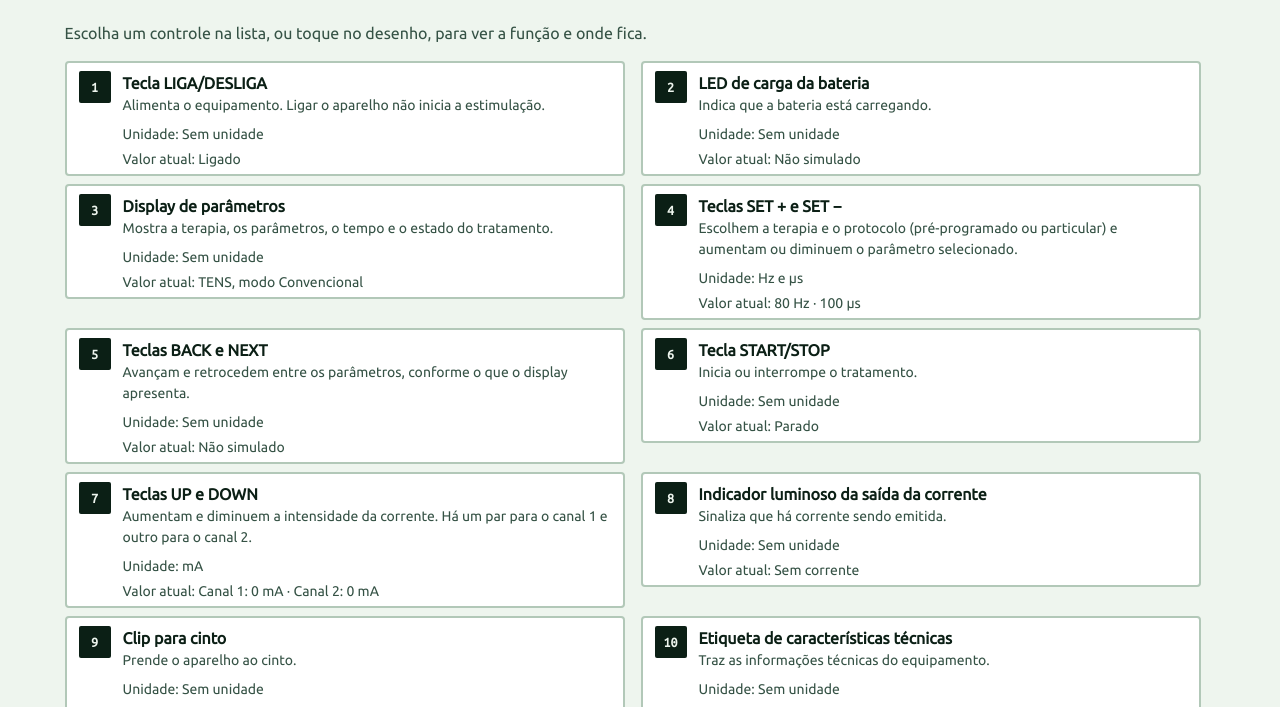
lista textual dos controles › deveAbrirAExplicacaoComEstadoEReferenciaDoManual
(page scrolled)
Click the button "6 Tecla START/STOP Inicia ou interrompe o tratamento.": (670, 354) [642, 330, 1198, 391]
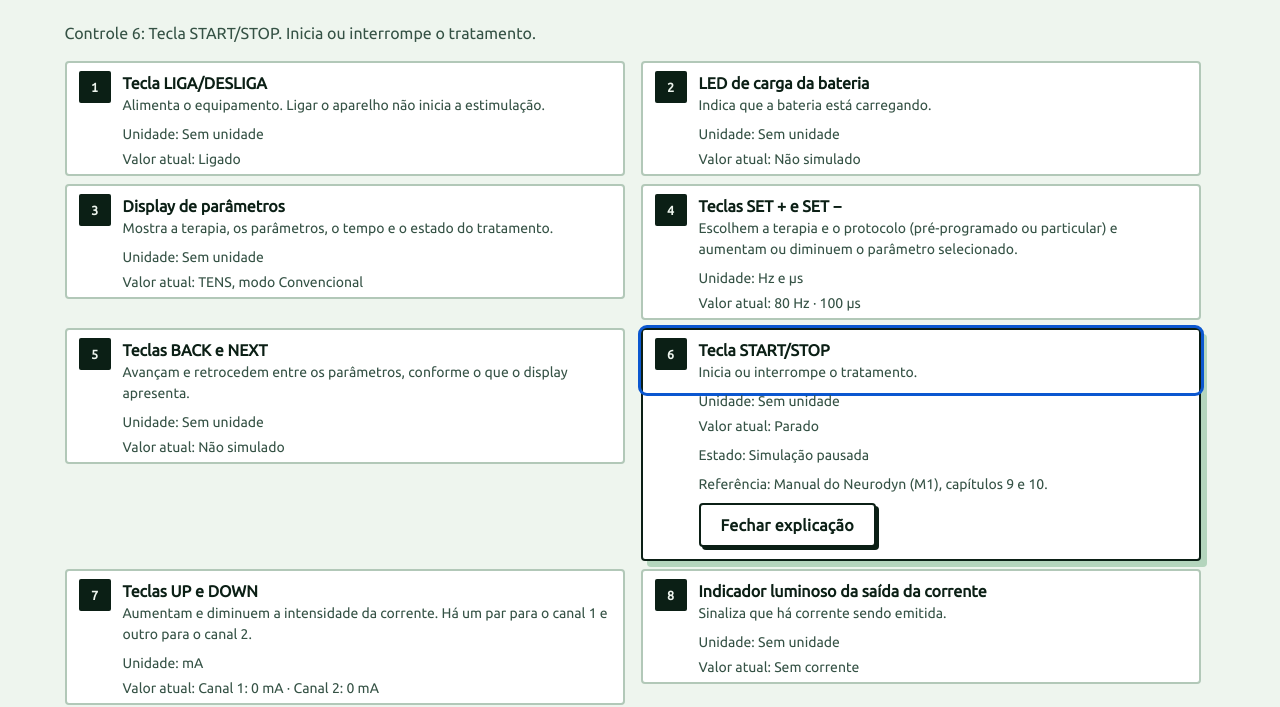
Expected: the text "Estado: Simulação pausada" is shown, [698, 445, 869, 466]
Expected: the text "Referência: Manual do Neurodyn (M1), capítulos 9 e 10." is shown, [698, 474, 1048, 495]
